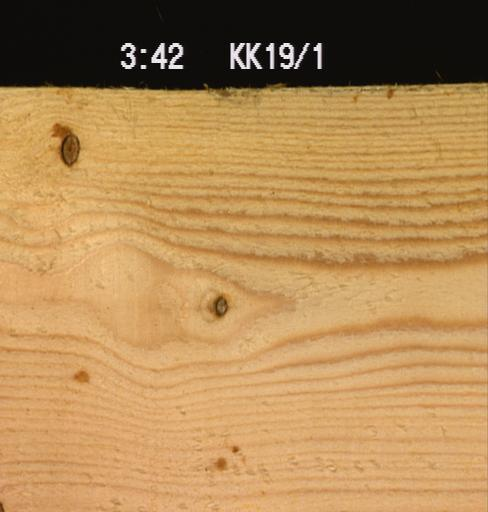dry_knot: (58, 132, 80, 166), (211, 293, 229, 317)
